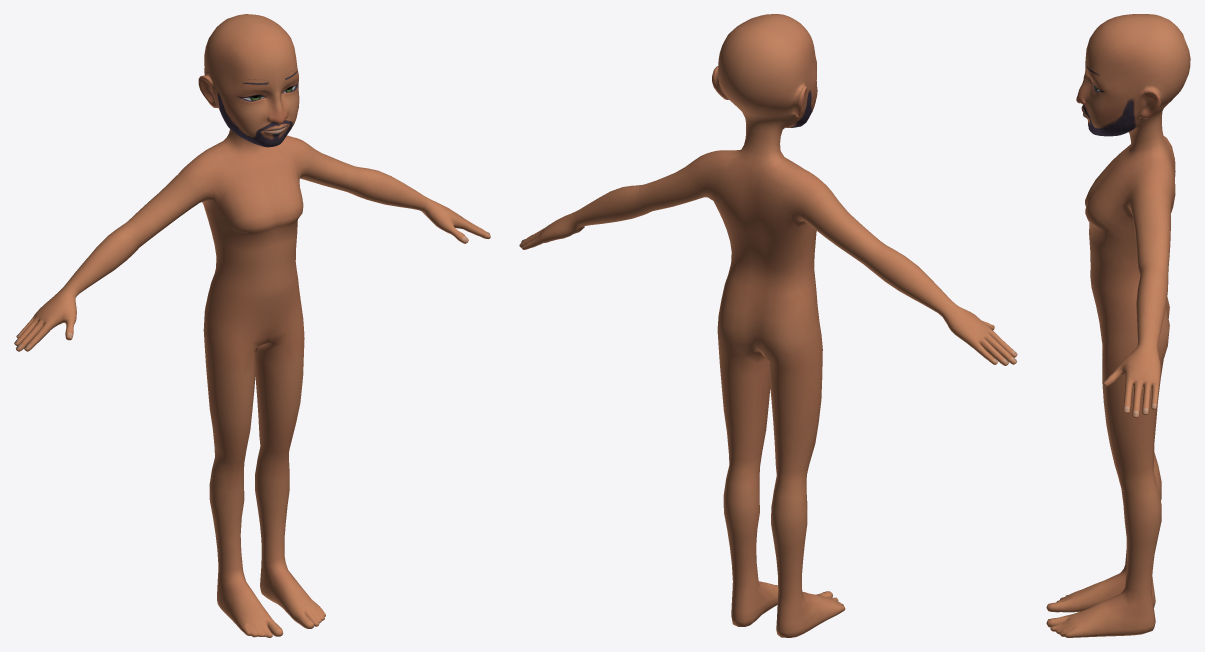
File: frame_0096.glb
3 views of the same model, side by side, from view 1: azimuth 30°, elevation 25°; view 2: azimuth 150°, elevation 25°; view 3: azimuth 270°, elevation 25° (orthographic). The views are drawn at different scales.
Parts seen in each view (by area): view 1: frame_0096_head_geo; view 2: frame_0096_head_geo; view 3: frame_0096_head_geo.
Boxes of the visible parts, x1,y1,x2,y2 form: frame_0096_head_geo: (14, 14, 490, 637); frame_0096_head_geo: (519, 14, 1017, 637); frame_0096_head_geo: (1046, 14, 1190, 637).
Bounding box in the file's own units: 1.28 × 1.5 × 0.3253.
Materials: 3 (3 with a texture image).
